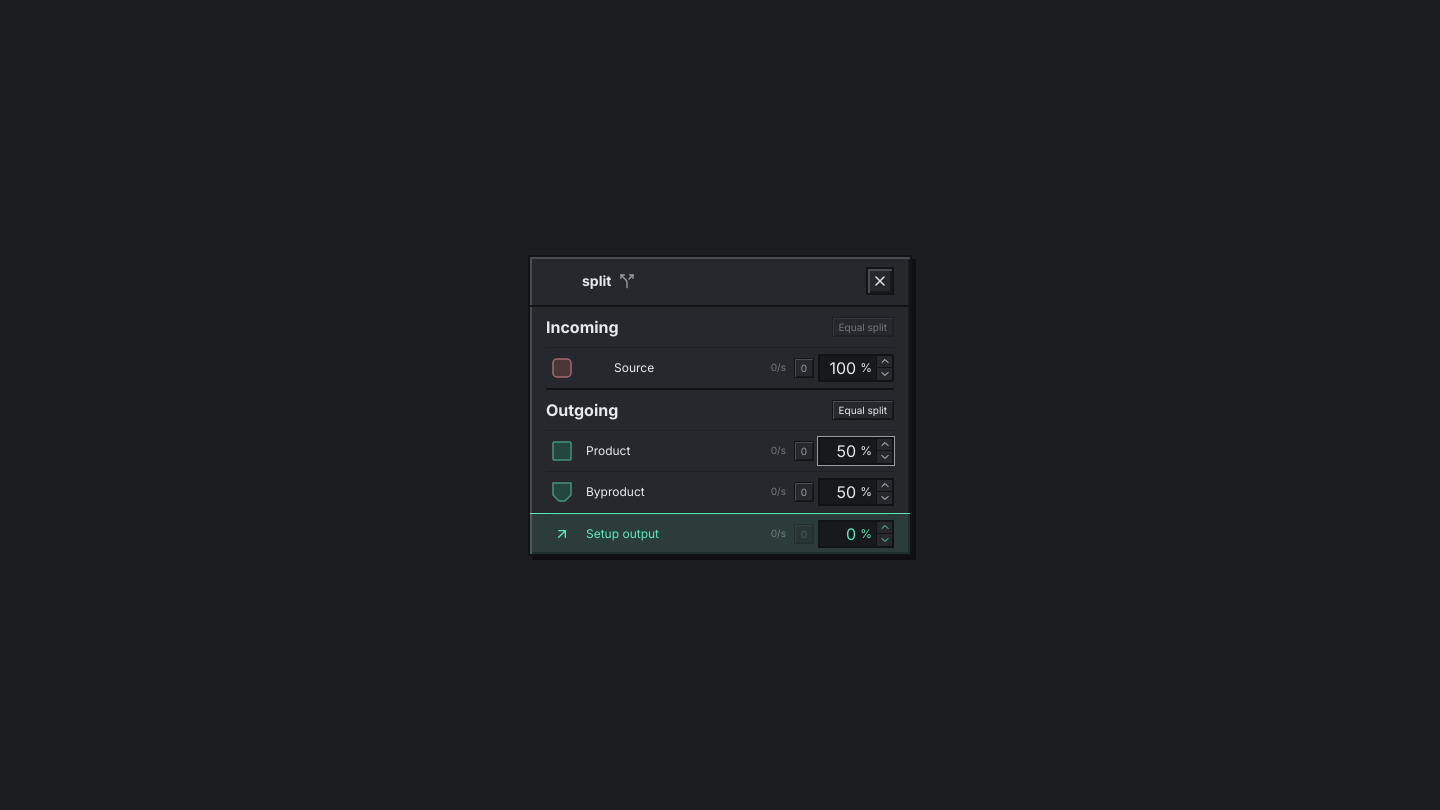
it: zeros a branch, redistributes its share, and disables the zero button
The width and height of the screenshot is (1440, 810).
Expected: the button named "Zero Product output percentage" is enabled, [794,440,814,460]
Replace the text in the number field named "Product output percentage" with "80" at (838, 450), box [820,438,856,462]
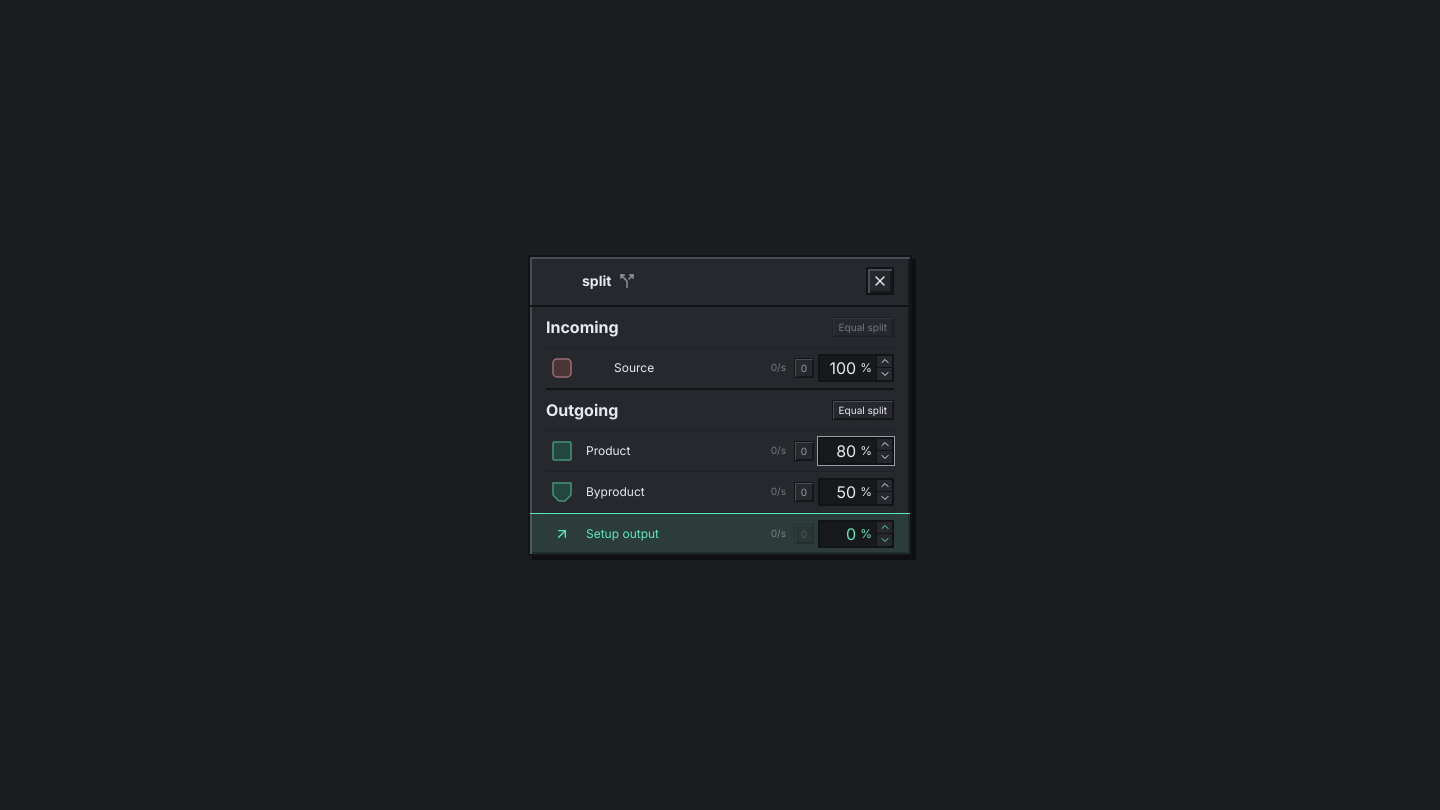
Click the button named "Zero Product output percentage".
click(804, 450)  # box [794,440,814,460]
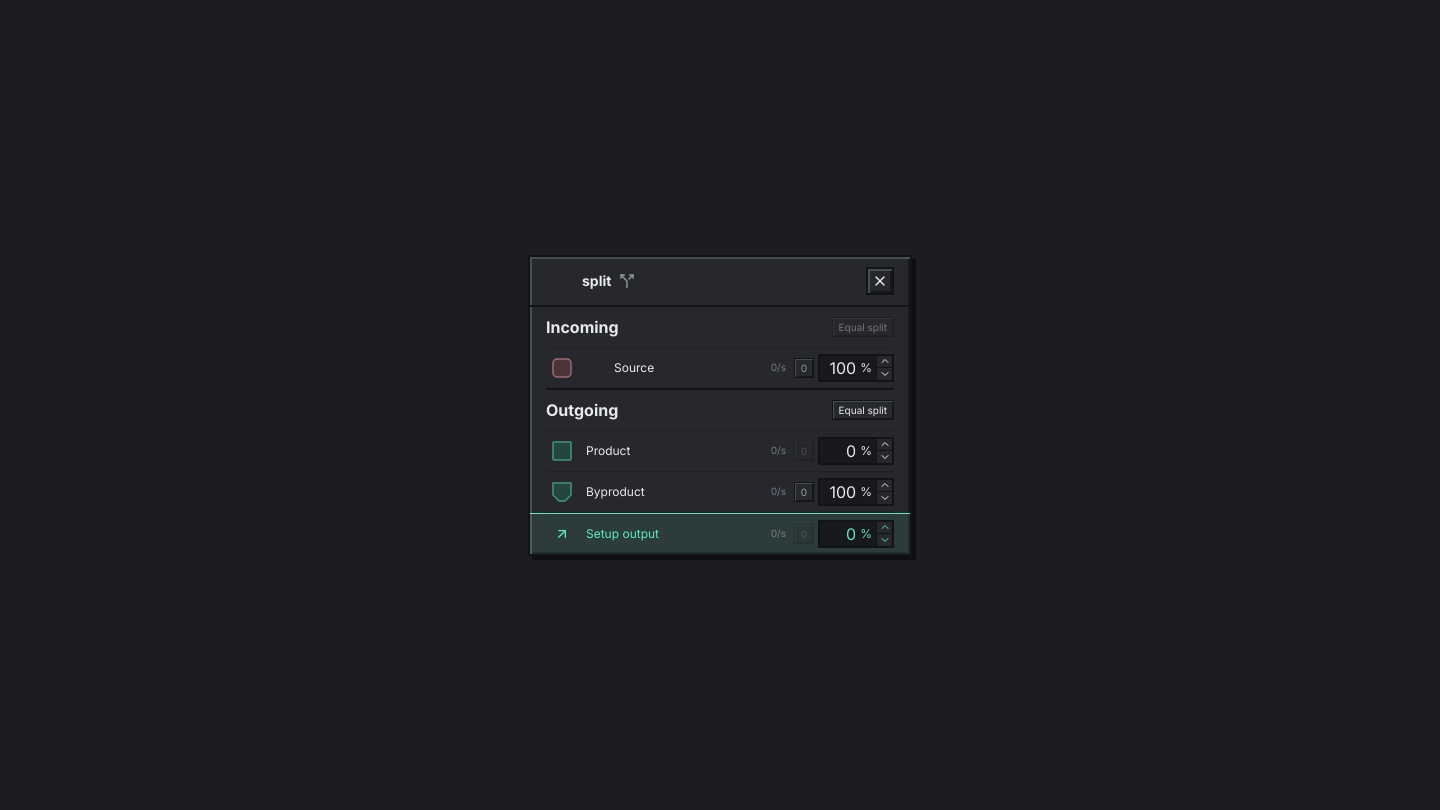
Result: the number field named "Product output percentage" holds "0" at [820,438,856,462]
Result: the button named "Zero Product output percentage" is disabled at [794,440,814,460]
Result: the number field named "Byproduct output percentage" holds "100" at [820,480,856,504]
